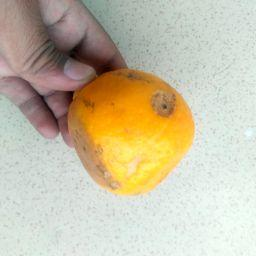Ripe: (70, 69, 195, 196)
